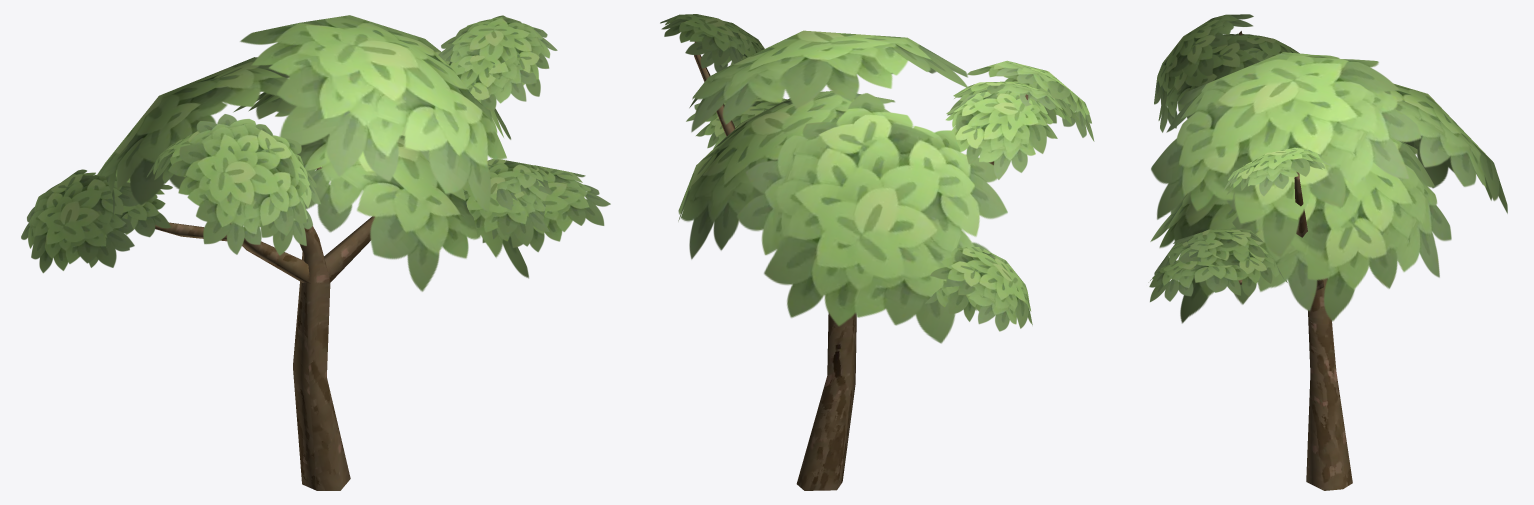
Rendered from street-tree-2-lo.glb.
The picture shows the model from 3 angles, left to right: view 1: azimuth 30°, elevation 25°; view 2: azimuth 150°, elevation 25°; view 3: azimuth 270°, elevation 25°; orthographic projection. The views are drawn at different scales.
Parts seen in each view (by area): view 1: Tree_5; view 2: Tree_5; view 3: Tree_5.
Boxes of the visible parts, x1,y1,x2,y2 form: Tree_5: [21, 15, 610, 490]; Tree_5: [660, 14, 1094, 490]; Tree_5: [1148, 14, 1507, 490].
Bounding box in the file's own units: 6.88 × 6.42 × 5.5.
Materials: 2 (2 with a texture image).
